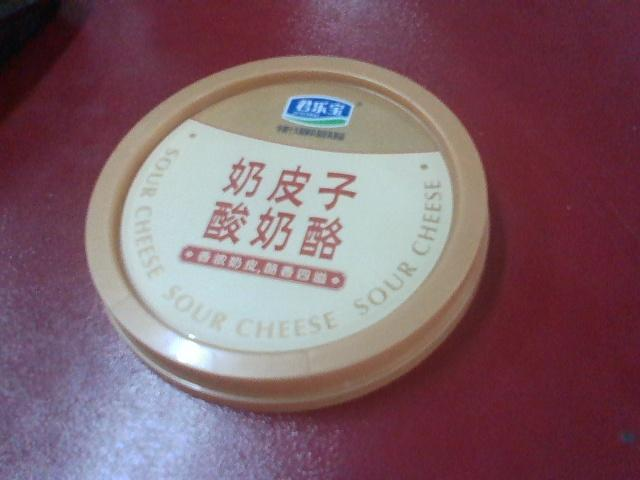lid: (80, 51, 503, 413)
